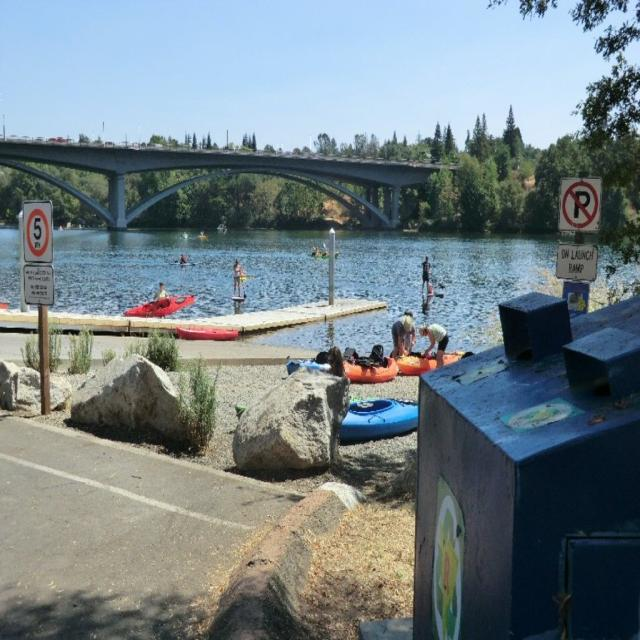Boat: (337, 397, 418, 443), (124, 284, 200, 318)
